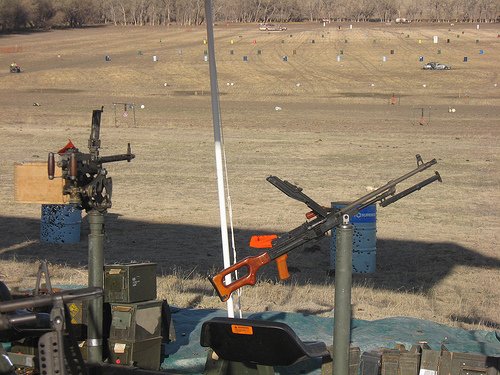rifle: (206, 151, 439, 306), (37, 126, 136, 221)
